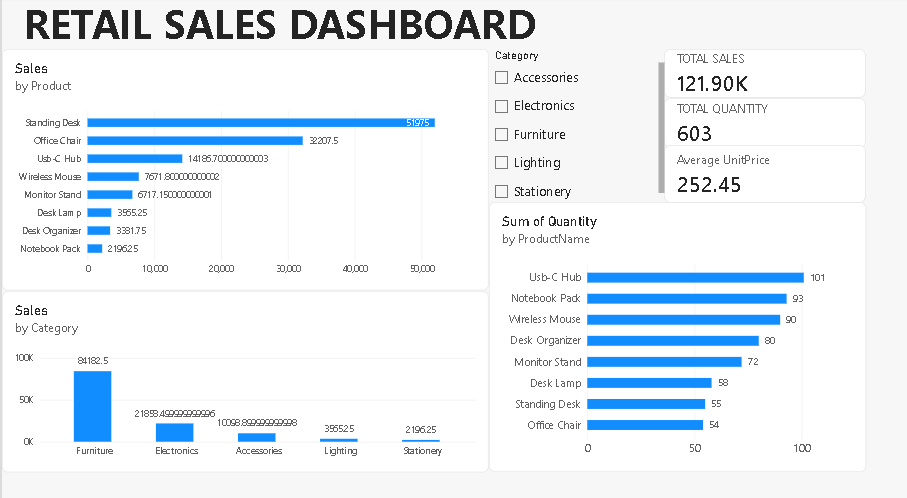

Layout of this report page (visuals, bound fields, positions):
{"tool":"powerbi","page":{"name":"Page 1","canvas":[1920,1080],"ordinal":0},"visuals":[{"type":"textbox","box":[0,0,742,88],"z":0},{"type":"clusteredBarChart","fields":{"Category":["CLEANED VERSION.ProductName"],"Y":["Sum(CLEANED VERSION.Calculated Sales column)"]},"box":[0,71,649,322],"z":1000},{"type":"clusteredColumnChart","fields":{"Category":["CLEANED VERSION.Category"],"Y":["Sum(CLEANED VERSION.Calculated Sales column)"]},"box":[0,393,649,242],"z":2000},{"type":"clusteredBarChart","fields":{"Category":["CLEANED VERSION.ProductName"],"Y":["Sum(CLEANED VERSION.Quantity)"]},"box":[649,275,503,360],"z":3000},{"type":"cardVisual","fields":{"Data":["Sum(CLEANED VERSION.Calculated Sales column)"]},"box":[883,71,269,65],"z":5000},{"type":"cardVisual","fields":{"Data":["Sum(CLEANED VERSION.Quantity)"]},"box":[883,136,269,67],"z":6000},{"type":"cardVisual","fields":{"Data":["Avg(CLEANED VERSION.UnitPriceSAR)"]},"box":[883,198,269,77],"z":7000},{"type":"slicer","fields":{"Values":["CLEANED VERSION.Category"]},"box":[649,71,234,204],"z":8000}]}

Visuals, with their boxes in screenshot pixels (x1, y1, x2, y2), scaled from the page's 1920x1080 canvas onto the 907x498 screenshot:
textbox: l=0, t=0, r=351, b=41
clusteredBarChart - CLEANED VERSION.ProductName x Sum(CLEANED VERSION.Calculated Sales column): l=0, t=33, r=307, b=181
clusteredColumnChart - CLEANED VERSION.Category x Sum(CLEANED VERSION.Calculated Sales column): l=0, t=181, r=307, b=293
clusteredBarChart - CLEANED VERSION.ProductName x Sum(CLEANED VERSION.Quantity): l=307, t=127, r=544, b=293
cardVisual - Sum(CLEANED VERSION.Calculated Sales column): l=417, t=33, r=544, b=63
cardVisual - Sum(CLEANED VERSION.Quantity): l=417, t=63, r=544, b=94
cardVisual - Avg(CLEANED VERSION.UnitPriceSAR): l=417, t=91, r=544, b=127
slicer - CLEANED VERSION.Category: l=307, t=33, r=417, b=127
